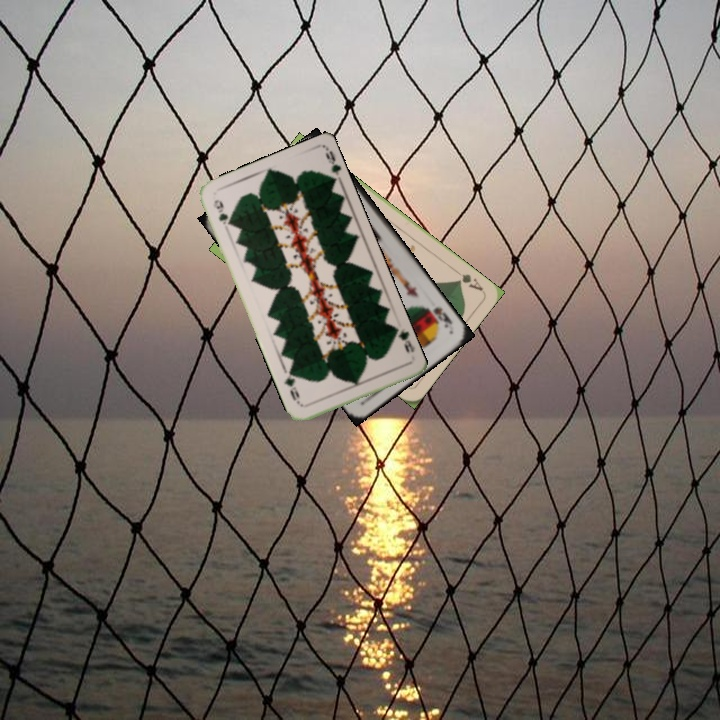G9: (390, 323, 417, 355), (209, 196, 234, 228)
GA: (450, 265, 486, 294)
SK: (429, 303, 455, 330)
